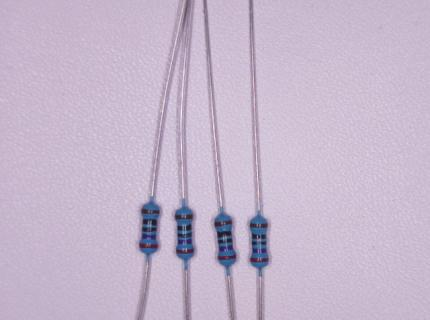Black band: (142, 219, 157, 226), (177, 224, 192, 231), (217, 231, 232, 238), (177, 232, 192, 238), (218, 238, 233, 243), (142, 227, 156, 232), (252, 234, 266, 239), (252, 241, 267, 245)
Brown band: (214, 219, 233, 227), (141, 208, 160, 214), (175, 213, 193, 219), (250, 222, 268, 228)
Red band: (139, 242, 159, 249), (176, 247, 195, 254), (217, 254, 236, 260), (250, 257, 269, 263)
Violet band: (219, 244, 234, 252), (141, 233, 156, 239), (252, 248, 266, 254), (178, 239, 191, 245)
